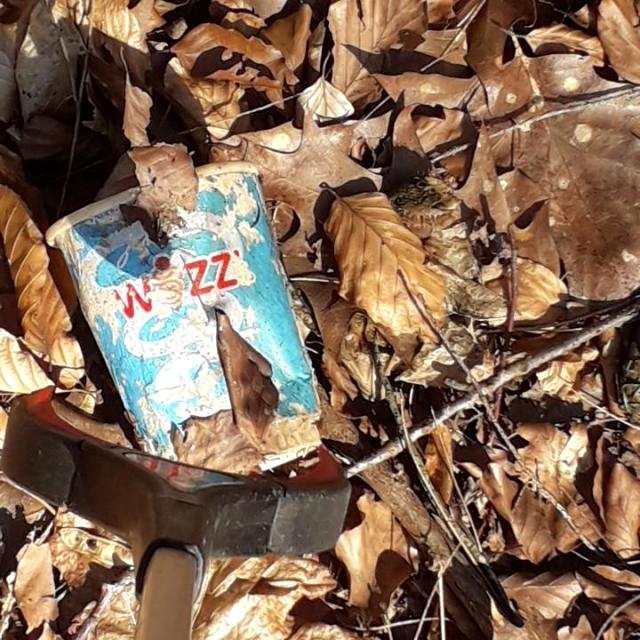Paper: (42, 158, 324, 494)
